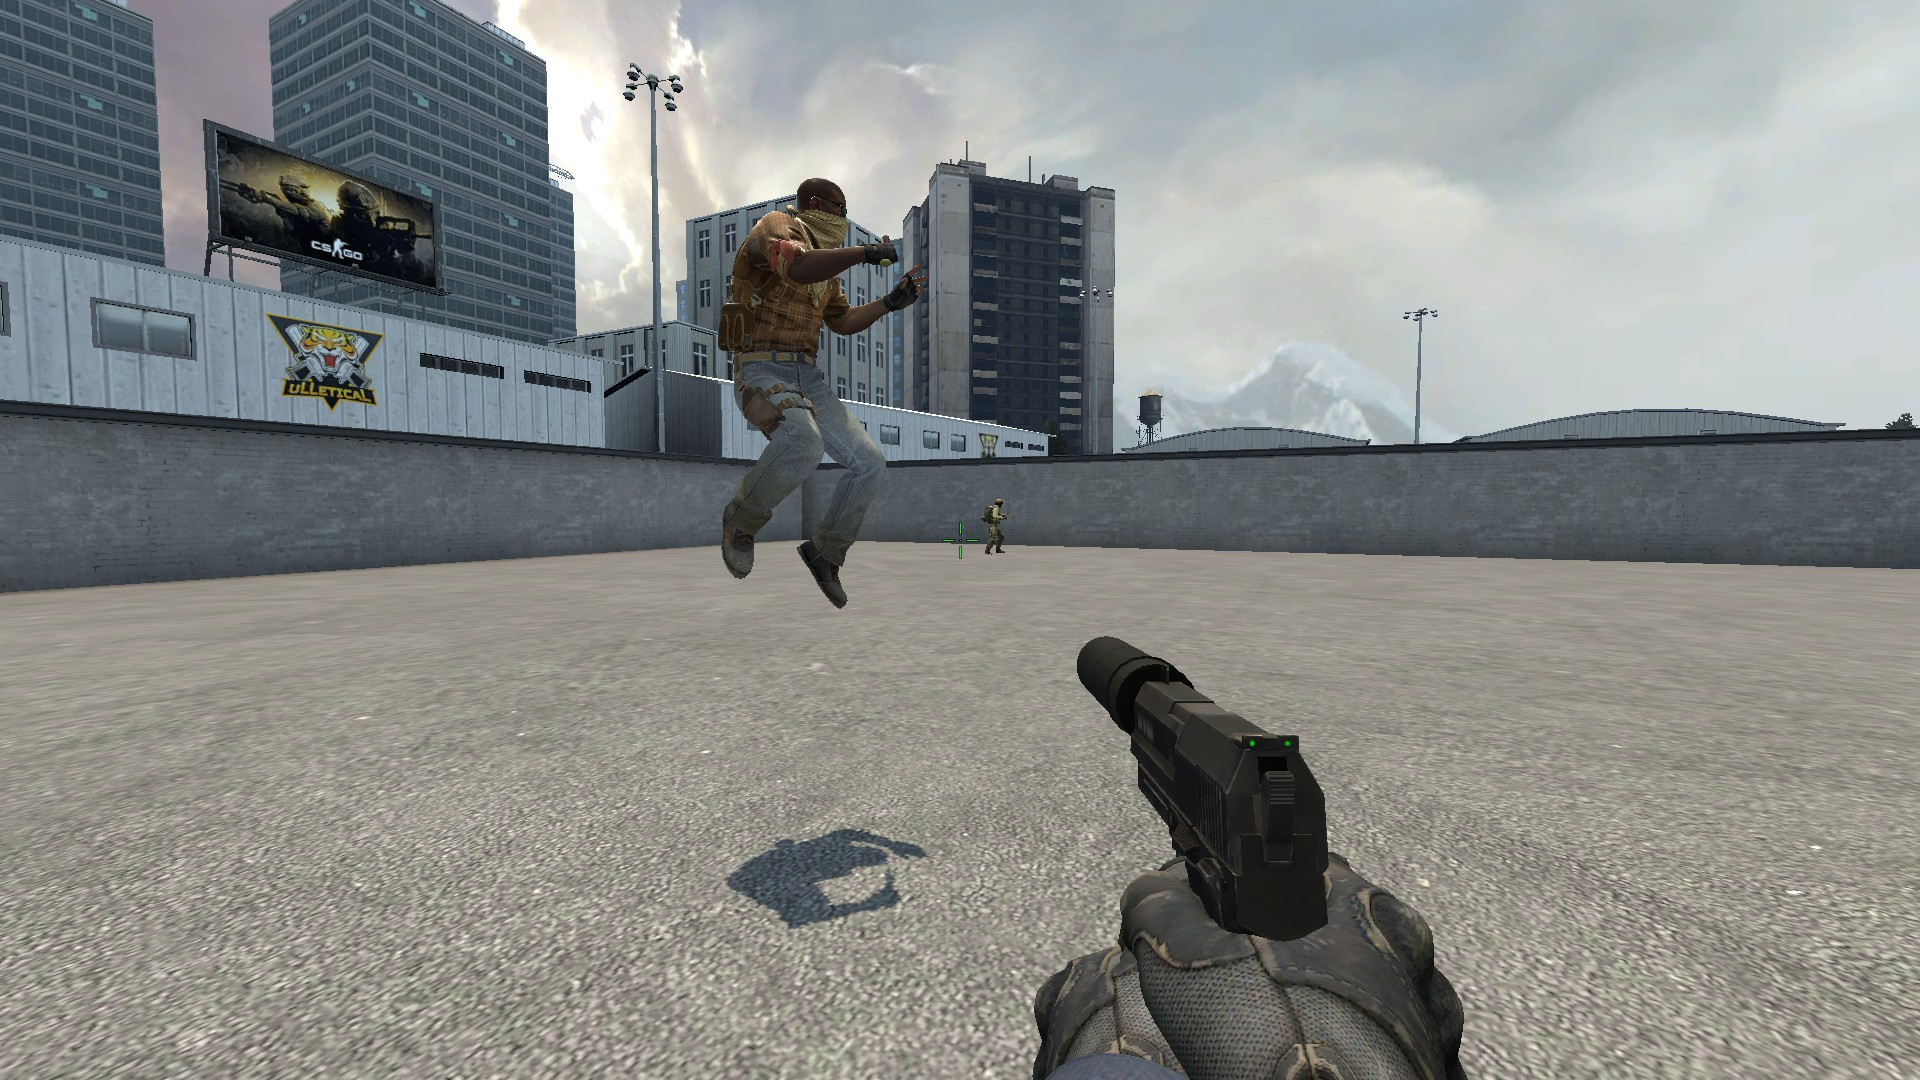tr: (714, 175, 927, 613)
tr head: (792, 175, 854, 261)
